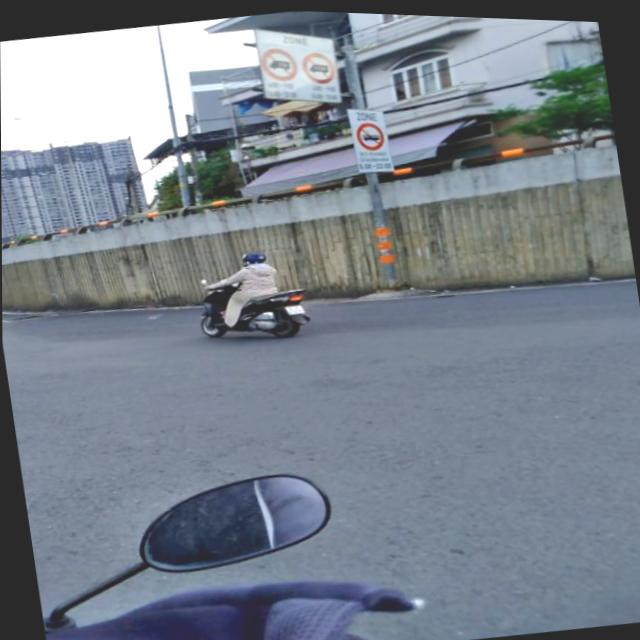Han che chieu cao: (259, 42, 299, 82), (300, 47, 338, 85)
